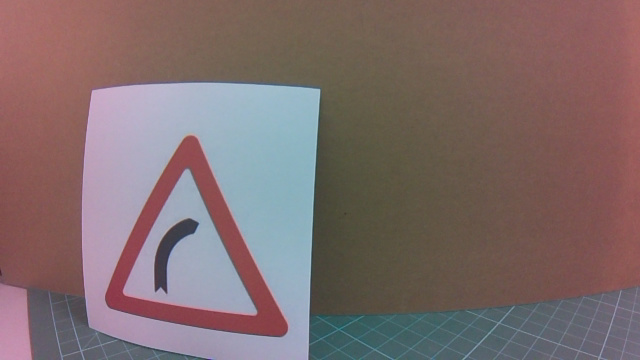right: (107, 155, 285, 331)
